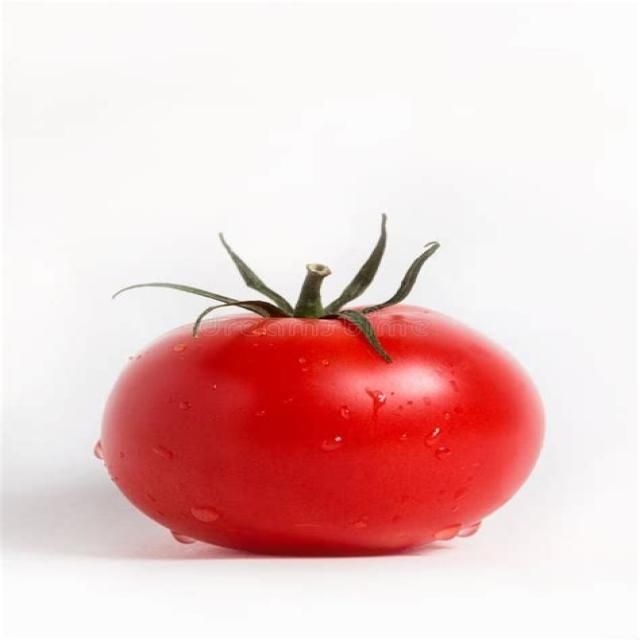Tomato: (92, 300, 547, 560)
